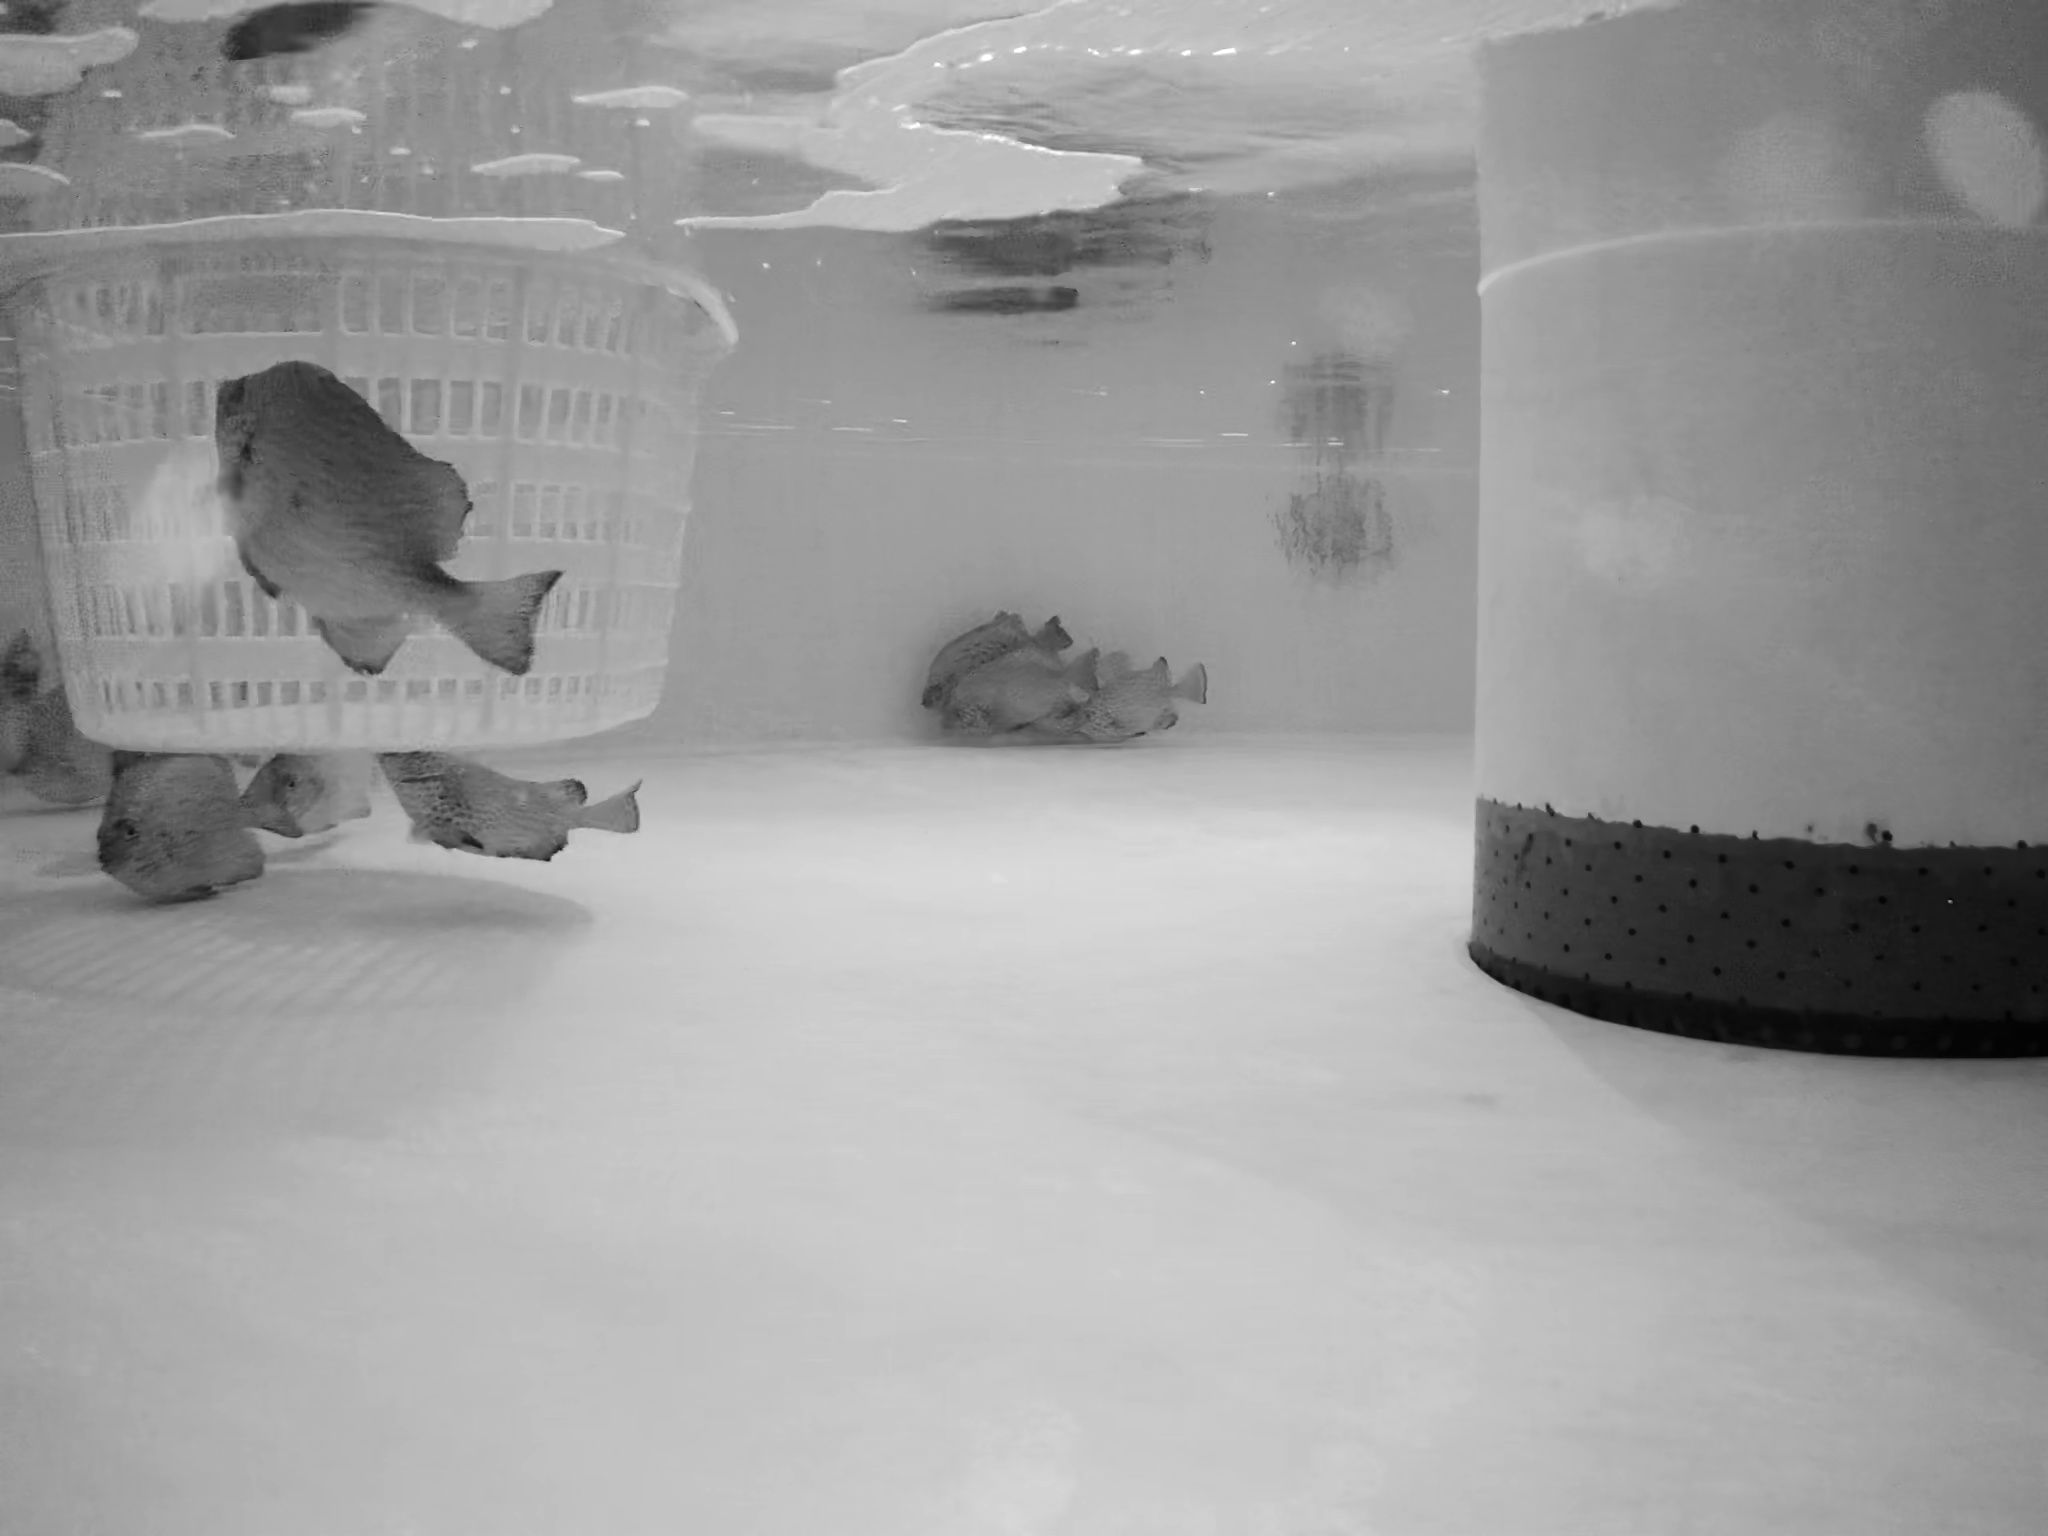fish: (211, 360, 568, 689), (95, 750, 353, 920), (405, 755, 650, 878), (24, 687, 206, 800), (921, 605, 1071, 729), (1063, 658, 1211, 753), (956, 655, 1109, 742), (2, 626, 50, 802)
